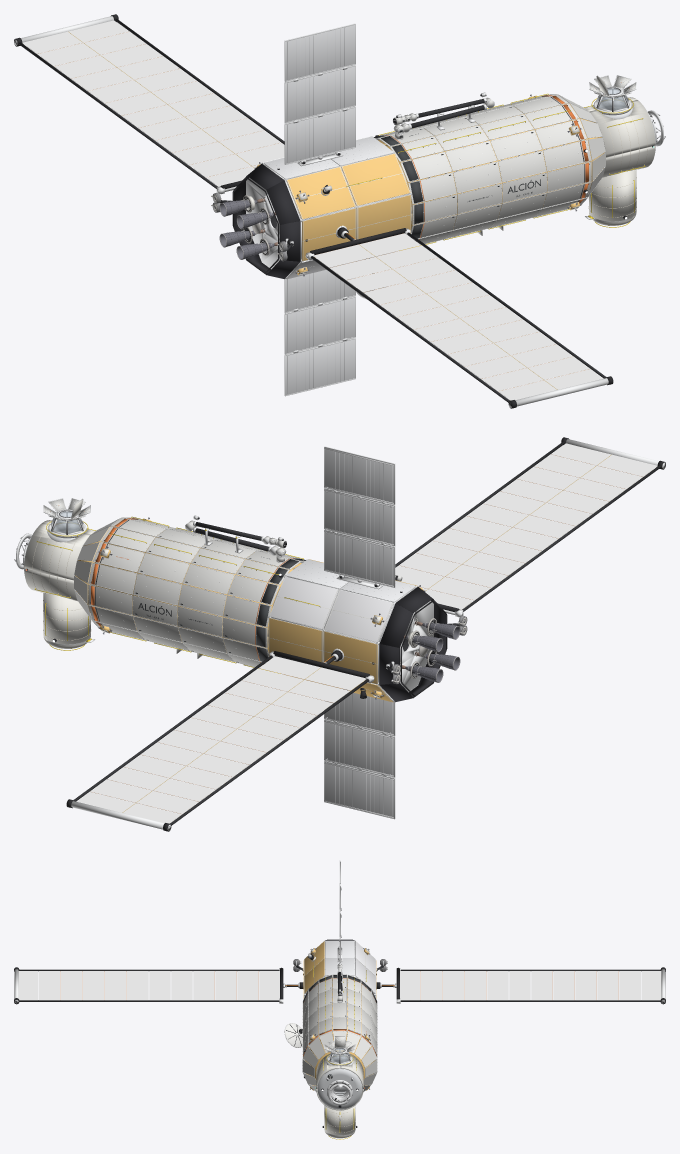
The model's file is alcion_hx4_exterior.glb.
The picture shows the model from 3 angles, top to bottom: view 1: azimuth 30°, elevation 25°; view 2: azimuth 150°, elevation 25°; view 3: azimuth 270°, elevation 25°; orthographic projection. The views are drawn at different scales.
Visible parts, largest first — view 1: THR.R1.PNL.P3, THR.R2.PNL.P3, THR.R1.PNL.P1, THR.R1.PNL.P2, THR.R2.PNL.P2, PRP.STR.SKT, SVC.SKN.R1.P4, SVC.SKN.R2.P4, FWD.ALK.MMOD, FWD.MMOD.BLK2, THR.R2.PNL.P1, shield_panel_std (×2) (+56 smaller); view 2: THR.R1.PNL.P3, THR.R2.PNL.P3, THR.R2.PNL.P2, THR.R1.PNL.P1, THR.R1.PNL.P2, PRP.STR.SKT, SVC.SKN.R1.P2, SVC.SKN.R2.P2, FWD.ALK.MMOD, FWD.MMOD.BLK1, THR.R2.PNL.P1, shield_panel_std (×2) (+56 smaller); view 3: FWD.STR.BHF, FWD.ALK.MMOD, PWR.W1.BLK.S02, PWR.W1.BLK.S03, PWR.W1.BLK.S04, PWR.W1.BLK.S05, PWR.W1.BLK.S06, PWR.W1.BLK.S07, PWR.W1.BLK.S08, PWR.W1.BLK.S09, PWR.W1.BLK.S10, PWR.W1.BLK.S11 (+20 smaller).
Part boxes in pixels (x1=…): THR.R1.PNL.P3: x1=284, y1=23, x2=355, y2=81; THR.R2.PNL.P3: x1=284, y1=338, x2=355, y2=396; THR.R1.PNL.P1: x1=284, y1=106, x2=355, y2=164; THR.R1.PNL.P2: x1=284, y1=65, x2=355, y2=123; THR.R2.PNL.P2: x1=284, y1=296, x2=355, y2=354; PRP.STR.SKT: x1=233, y1=163, x2=300, y2=278; SVC.SKN.R1.P4: x1=341, y1=153, x2=410, y2=206; SVC.SKN.R2.P4: x1=286, y1=167, x2=355, y2=219; FWD.ALK.MMOD: x1=588, y1=170, x2=636, y2=225; FWD.MMOD.BLK2: x1=589, y1=100, x2=655, y2=157; THR.R2.PNL.P1: x1=284, y1=269, x2=355, y2=313; shield_panel_std (×2): x1=457, y1=172, x2=546, y2=213; THR.R1.PNL.P3: x1=324, y1=446, x2=395, y2=504; THR.R2.PNL.P3: x1=324, y1=761, x2=395, y2=819; THR.R2.PNL.P2: x1=324, y1=719, x2=395, y2=777; THR.R1.PNL.P1: x1=324, y1=529, x2=395, y2=587; THR.R1.PNL.P2: x1=324, y1=488, x2=395, y2=546; PRP.STR.SKT: x1=379, y1=586, x2=446, y2=702; SVC.SKN.R1.P2: x1=269, y1=576, x2=338, y2=629; SVC.SKN.R2.P2: x1=324, y1=590, x2=393, y2=642; FWD.ALK.MMOD: x1=43, y1=593, x2=91, y2=648; FWD.MMOD.BLK1: x1=24, y1=523, x2=90, y2=580; THR.R2.PNL.P1: x1=324, y1=692, x2=395, y2=736; shield_panel_std (×2): x1=133, y1=595, x2=222, y2=636; FWD.STR.BHF: x1=317, y1=1069, x2=362, y2=1109; FWD.ALK.MMOD: x1=324, y1=1105, x2=355, y2=1138; PWR.W1.BLK.S02: x1=421, y1=971, x2=442, y2=1000; PWR.W1.BLK.S03: x1=443, y1=971, x2=464, y2=1000; PWR.W1.BLK.S04: x1=465, y1=971, x2=486, y2=1000; PWR.W1.BLK.S05: x1=487, y1=971, x2=508, y2=1000; PWR.W1.BLK.S06: x1=509, y1=971, x2=530, y2=1000; PWR.W1.BLK.S07: x1=531, y1=971, x2=552, y2=1000; PWR.W1.BLK.S08: x1=553, y1=971, x2=574, y2=1000; PWR.W1.BLK.S09: x1=575, y1=971, x2=596, y2=1000; PWR.W1.BLK.S10: x1=597, y1=971, x2=618, y2=1000; PWR.W1.BLK.S11: x1=619, y1=971, x2=640, y2=1000.
Size of the model in its own units: 19.58 by 15.5 by 39.42.
